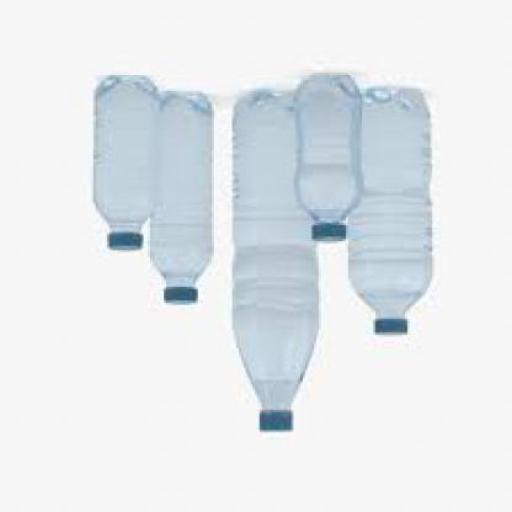plastic: (235, 91, 323, 435), (353, 88, 437, 340), (150, 98, 217, 304), (96, 78, 164, 254), (296, 78, 364, 246), (109, 232, 146, 254), (314, 224, 351, 246), (262, 410, 294, 434), (376, 318, 412, 337), (166, 289, 201, 307)
